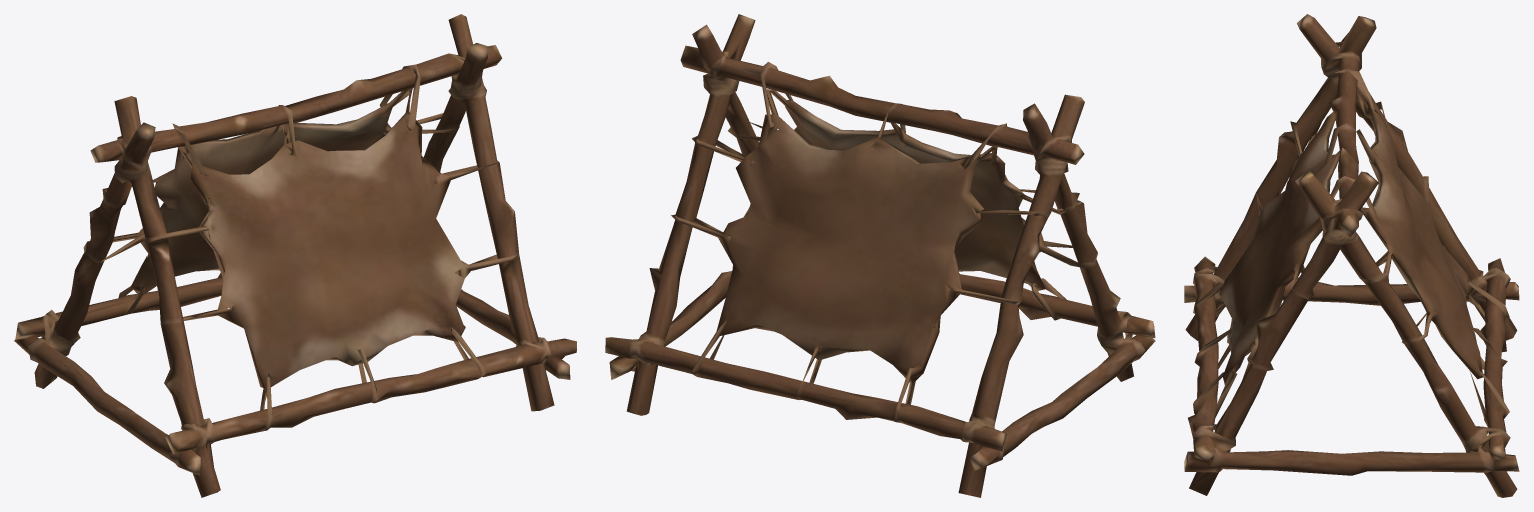
The model's file is drying_rack.glb.
3 renders of one model, left to right at view 1: azimuth 30°, elevation 25°; view 2: azimuth 150°, elevation 25°; view 3: azimuth 270°, elevation 25°, orthographic. The views are drawn at different scales.
Visible parts, largest first — view 1: tripo_node_a5f4dea9-33ea-4e52-956d-0e7c136989dd; view 2: tripo_node_a5f4dea9-33ea-4e52-956d-0e7c136989dd; view 3: tripo_node_a5f4dea9-33ea-4e52-956d-0e7c136989dd.
Part boxes in pixels (x1,y1,x2,y2): tripo_node_a5f4dea9-33ea-4e52-956d-0e7c136989dd: (14, 14, 576, 497); tripo_node_a5f4dea9-33ea-4e52-956d-0e7c136989dd: (605, 14, 1155, 497); tripo_node_a5f4dea9-33ea-4e52-956d-0e7c136989dd: (1184, 14, 1519, 497).
Bounding box in the file's own units: 0.9831 × 0.7984 × 0.7343.
1 material, 1 textured.
